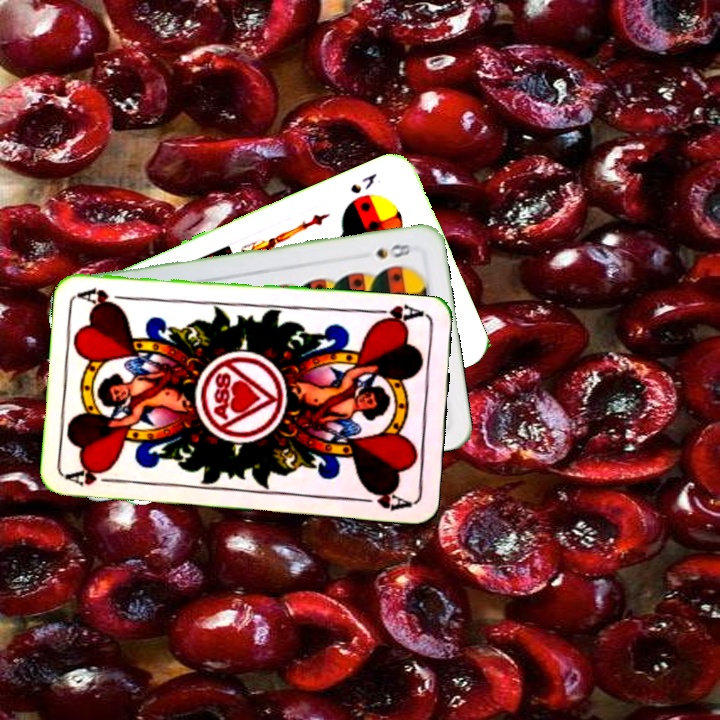HA: (368, 301, 426, 329), (64, 462, 123, 489)
S8: (372, 240, 413, 262)
SK: (346, 169, 379, 197)
